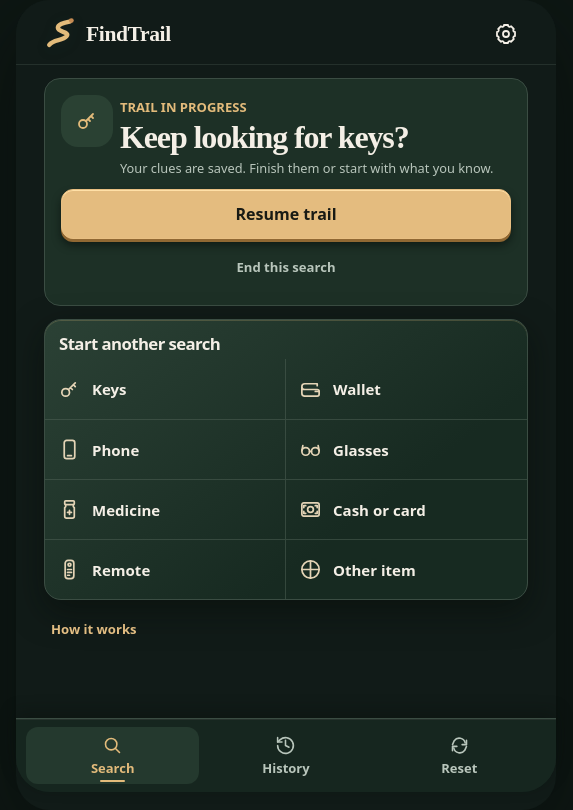
Test: search improvements › starts with learned places after the item question without inventing answers
Click the button "Resume trail" at point(286, 214), box [61,190,511,240]
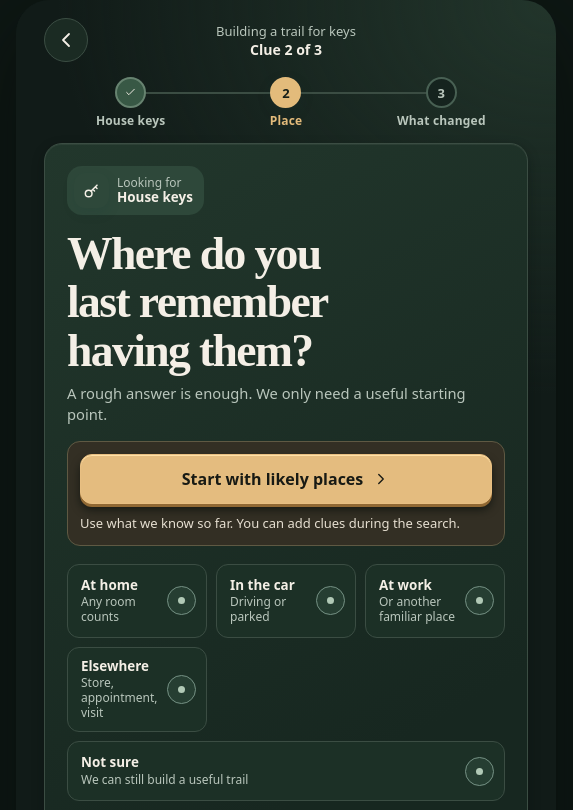
Click the button "Start with likely places" at point(286, 479), box [80,454,492,504]
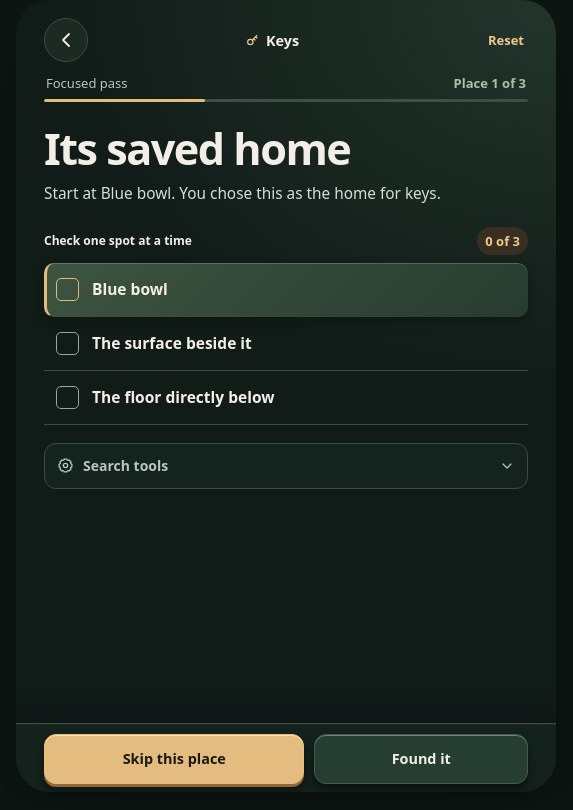
Expected: the heading "Its saved home" is shown, [44,119,350,178]
Click the button "Search tools" at point(126, 466), box [44,443,528,489]
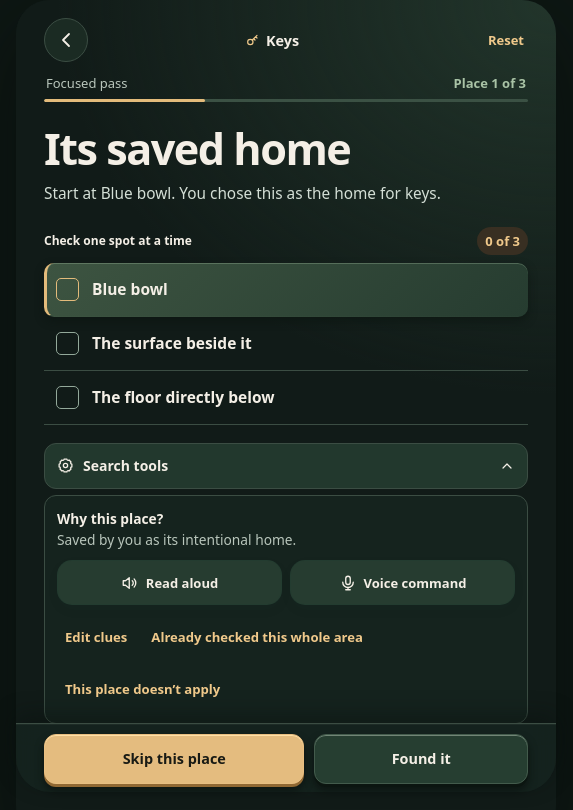
Click the button "Edit clues" at point(96, 637), box [57,615,135,659]
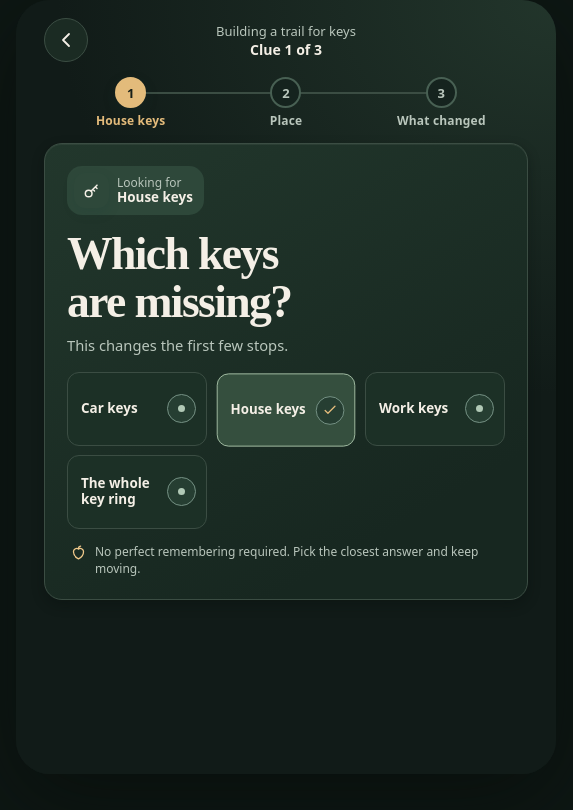
Expected: the heading "Which keys are missing?" is shown, [67,228,292,327]
